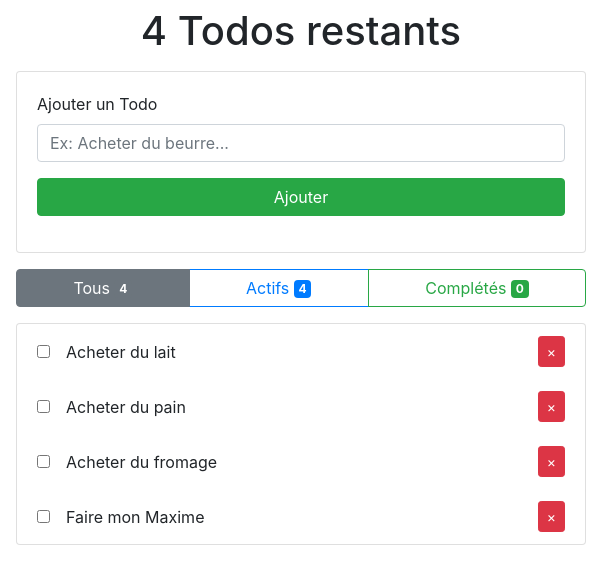
Scenario: Filtrage de la liste › le filtre "Complétés" n'affiche que les todos cochés
The image size is (607, 562).
Click the checkbox named "marquer \"acheter du lait\" comme complété" at [44, 352], box top-left (37, 345), bottom-right (50, 358)
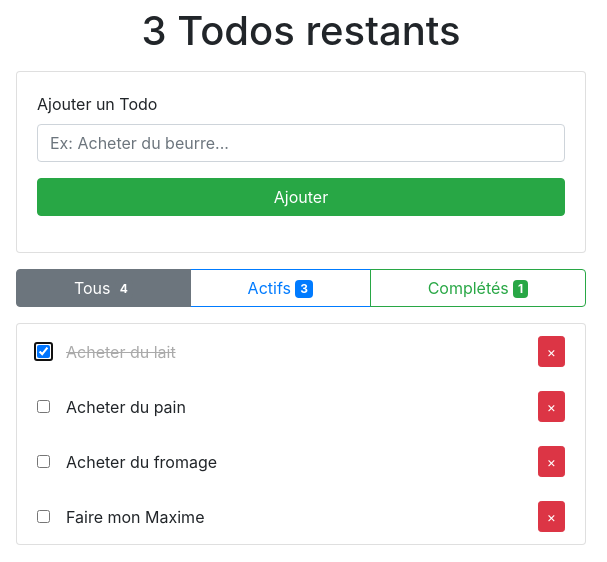
Click the button "Complétés 1" at [478, 288], box top-left (370, 269), bottom-right (586, 307)
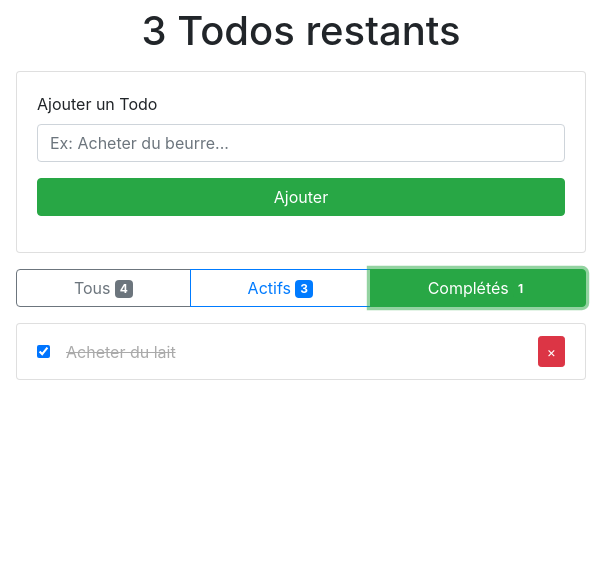
Expected: the text "Acheter du lait" is shown, top-left (66, 340), bottom-right (176, 364)
Now the text "Acheter du pain" is gone
